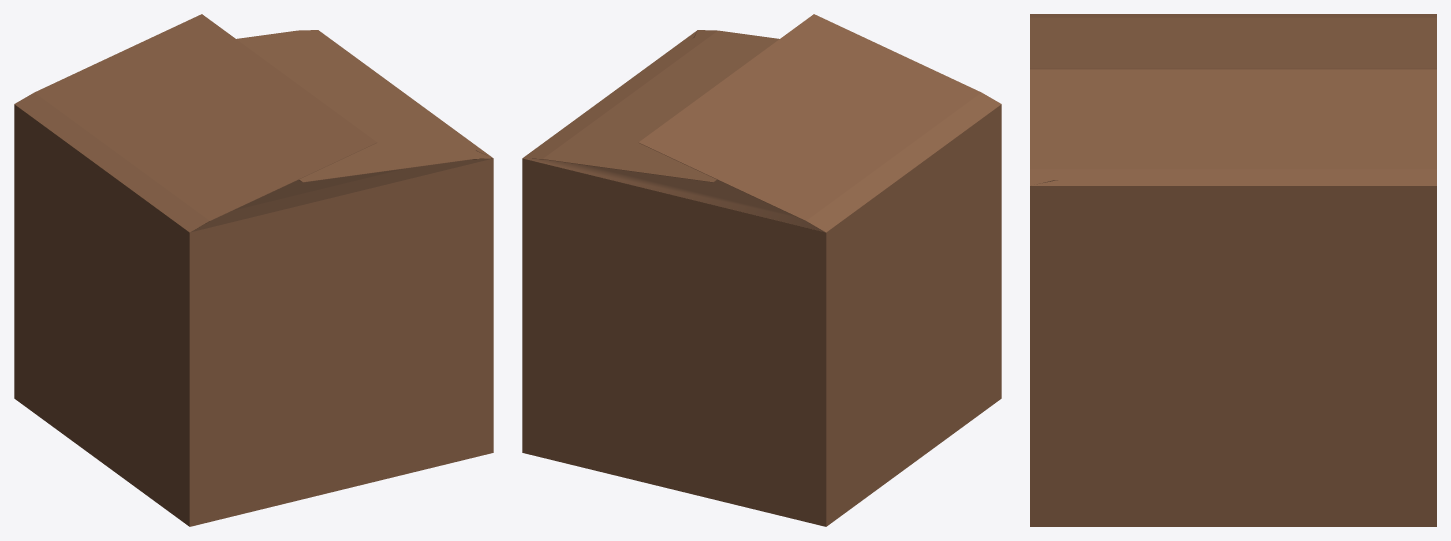
Rendered from CaixaPapelao.fbx.
3 renders of one model, left to right at view 1: azimuth 30°, elevation 25°; view 2: azimuth 150°, elevation 25°; view 3: azimuth 270°, elevation 25°, orthographic. The views are drawn at different scales.
Visible parts, largest first — view 1: CaixaPapelao; view 2: CaixaPapelao; view 3: CaixaPapelao.
Part boxes in pixels (box(x1,y1,x2,y2)): CaixaPapelao: box(14, 14, 493, 526); CaixaPapelao: box(522, 14, 1001, 526); CaixaPapelao: box(1030, 14, 1436, 526).
Size of the model in its own units: 61.44 by 65.41 by 61.44.
